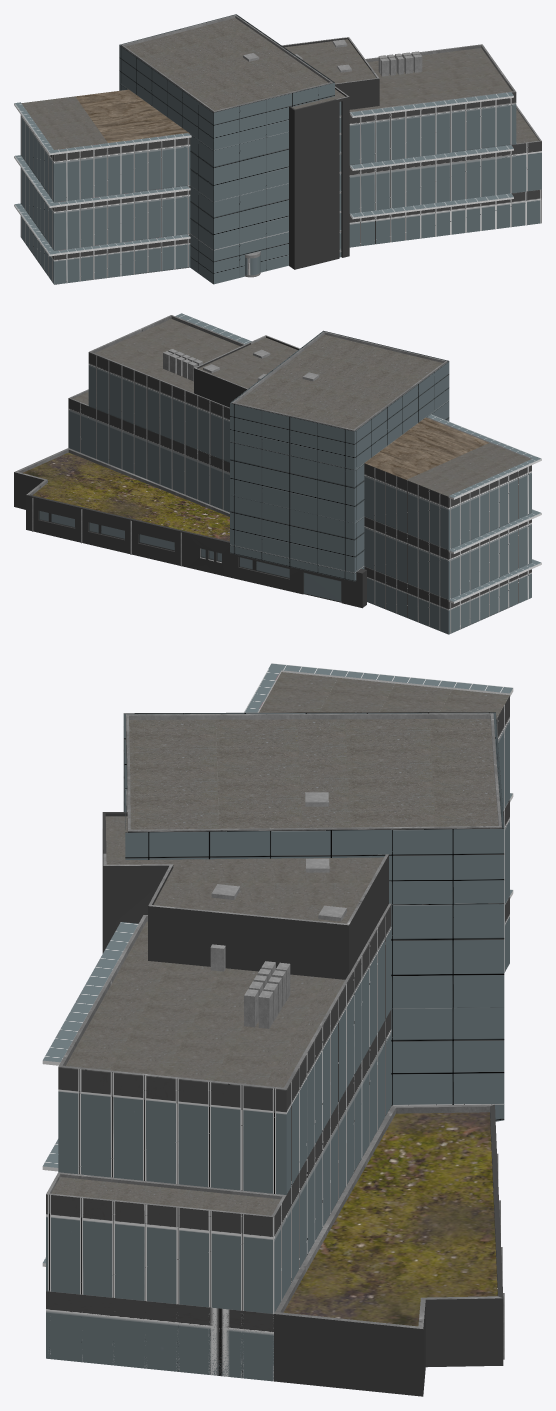
File: SM_ASLOffice.fbx
3 renders of one model, top to bottom at view 1: azimuth 30°, elevation 25°; view 2: azimuth 150°, elevation 25°; view 3: azimuth 270°, elevation 25°, orthographic. The views are drawn at different scales.
Parts seen in each view (by area): view 1: ASLB_Office; view 2: ASLB_Office; view 3: ASLB_Office.
Part boxes in pixels (left/top/right/bottom): ASLB_Office: left=14, top=14, right=541, bottom=284; ASLB_Office: left=14, top=313, right=541, bottom=634; ASLB_Office: left=42, top=663, right=513, bottom=1396.
Size of the model in its own units: 5788 by 2002 by 2483.
